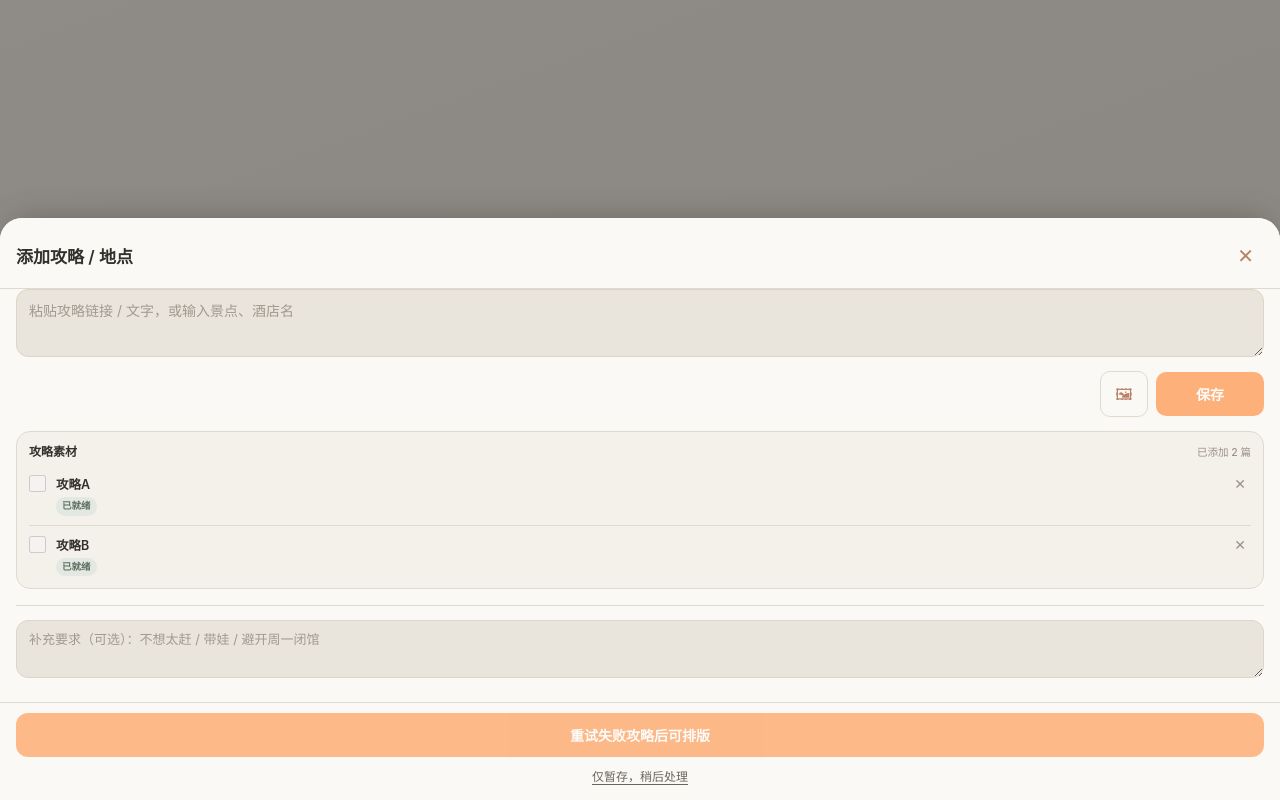
Scenario: NoteInput 来源删除二次确认端到端（任务 188） › 删除进行中：列表全部 ✕ 禁用（防重复请求），完成后恢复且来源剔除
This screenshot has width=1280, height=800.
Later steps or results of the test are not shown.
Click the button named "移除该攻略" at (1240, 484), box [1229,474,1251,494]
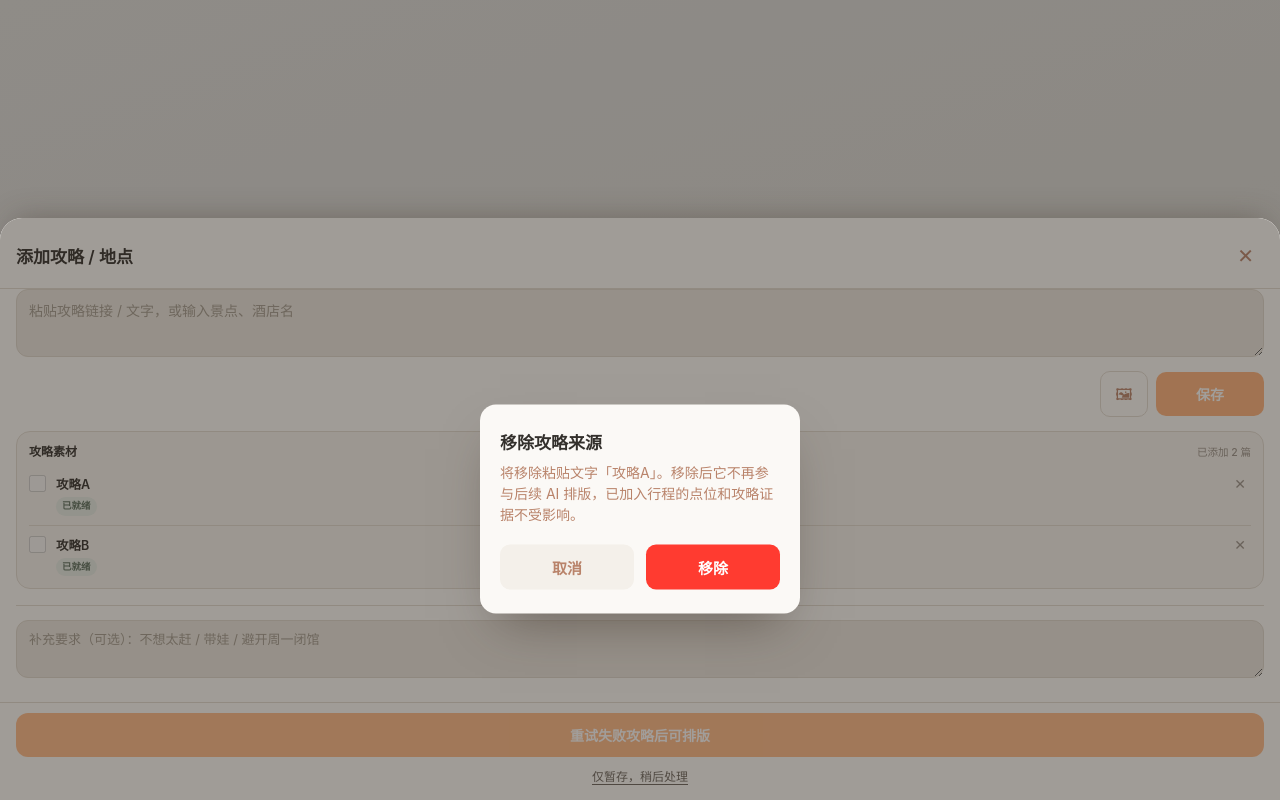
Click the button "移除" at (713, 567), box [646,544,780,589]
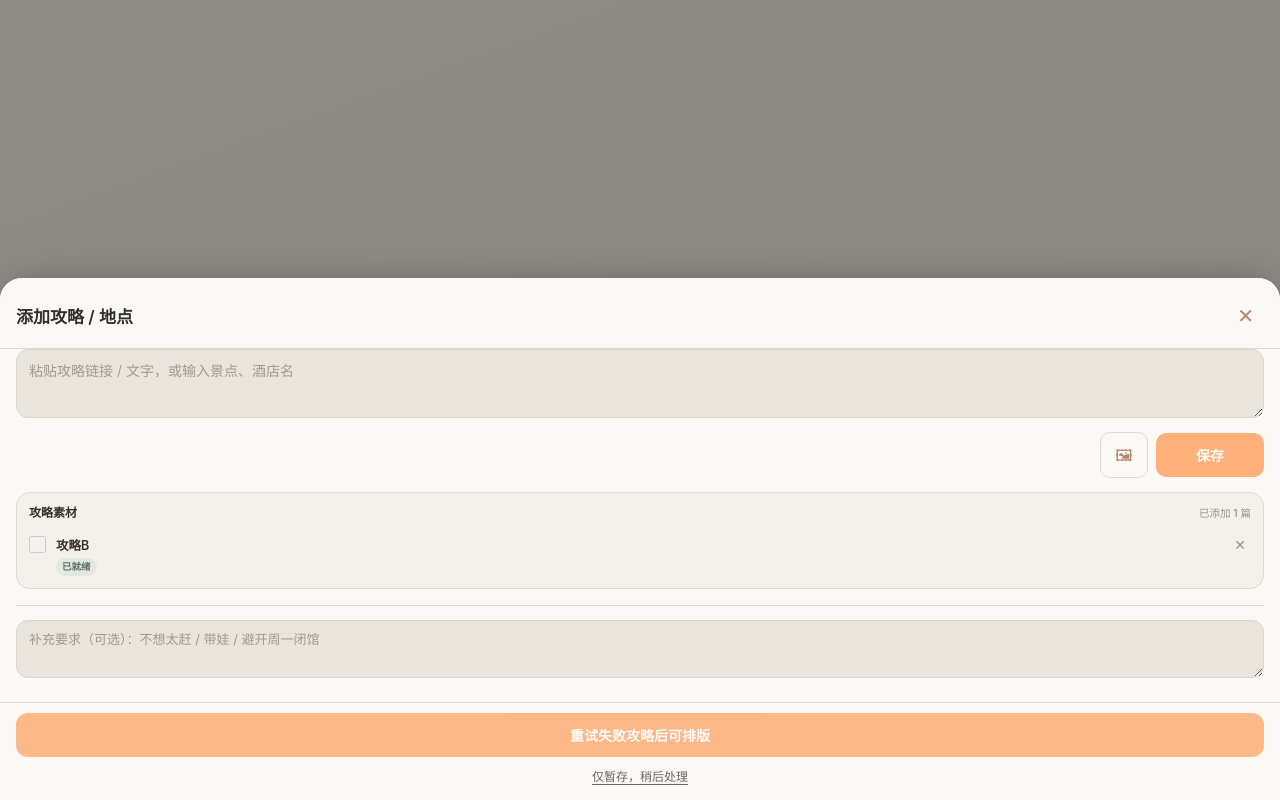
Expected: the button named "移除该攻略" is enabled, [1229,535,1251,555]
Expected: the text "已添加 1 篇" is shown, [1199,505,1251,520]
